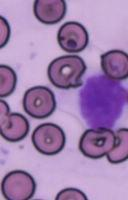L: (74, 70, 126, 131)
